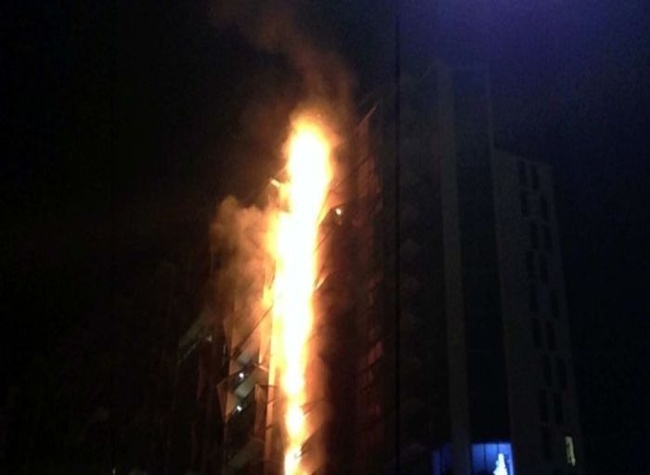Fire: (275, 122, 338, 457)
